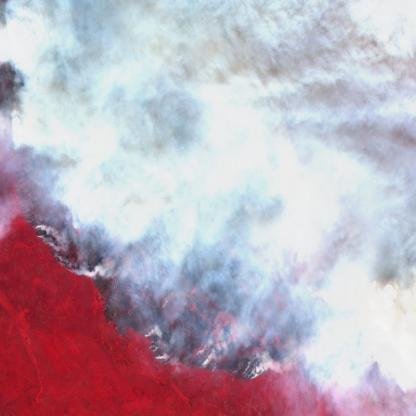fire: (0, 72, 416, 416)
